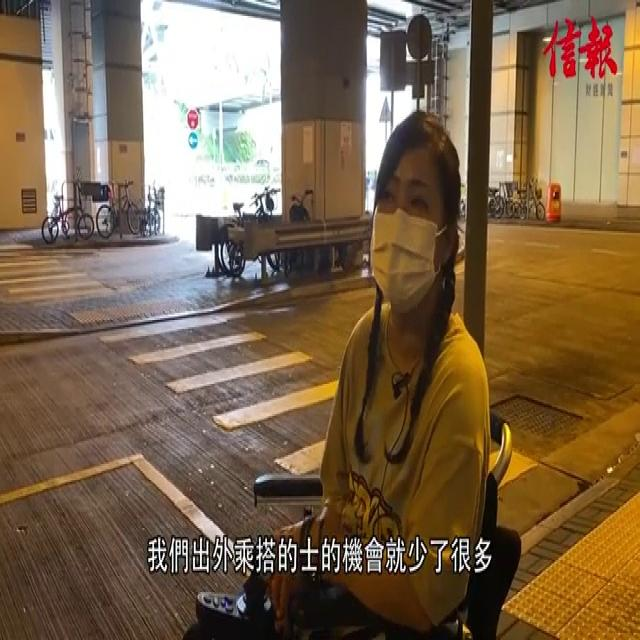wheelchairs: (193, 409, 526, 640)
